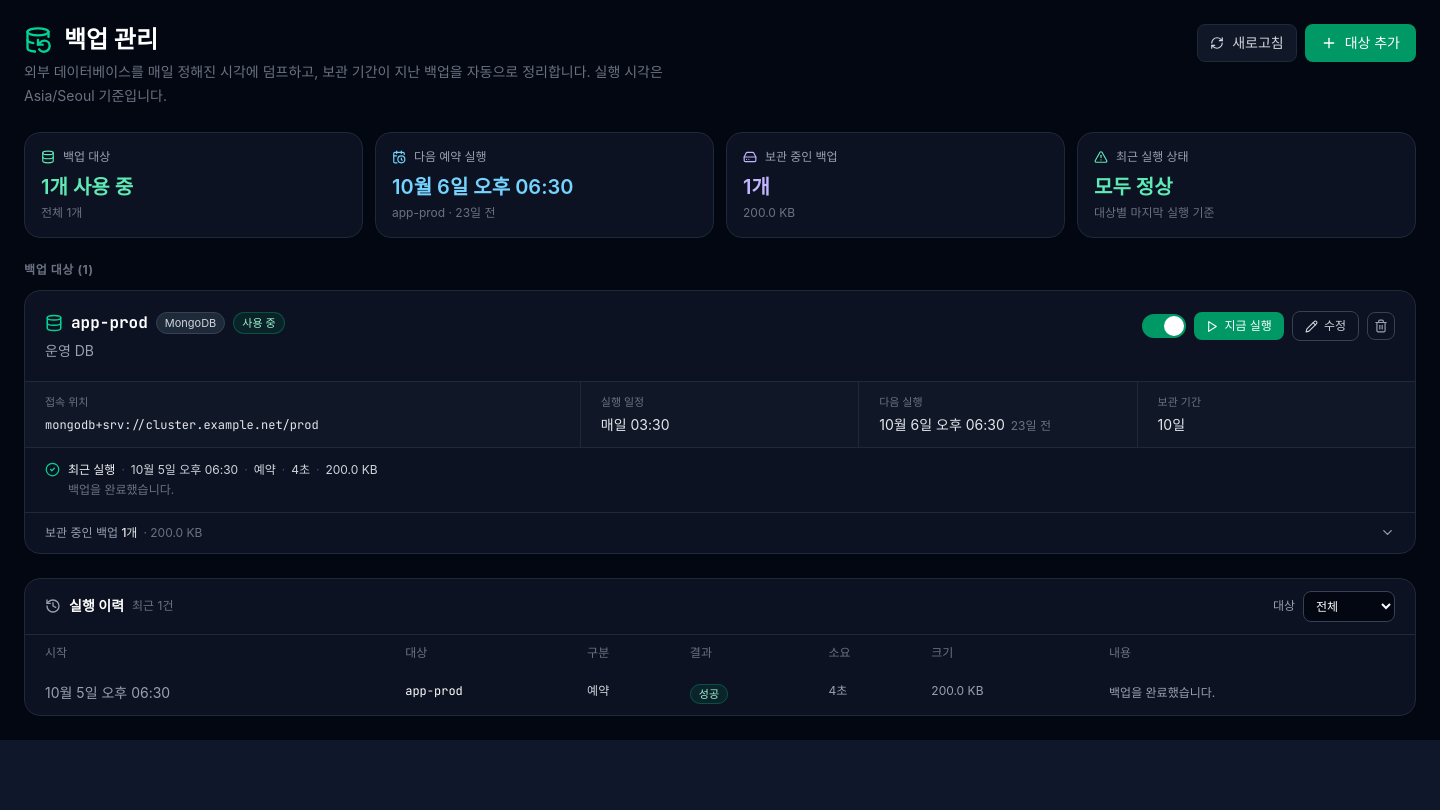
Test: BackupView › 스위치로 예약 백업을 끄고 켠다
The image size is (1440, 810).
Click the switch named "app-prod 예약 백업 사용".
click(1164, 326)  # box [1142,314,1186,338]
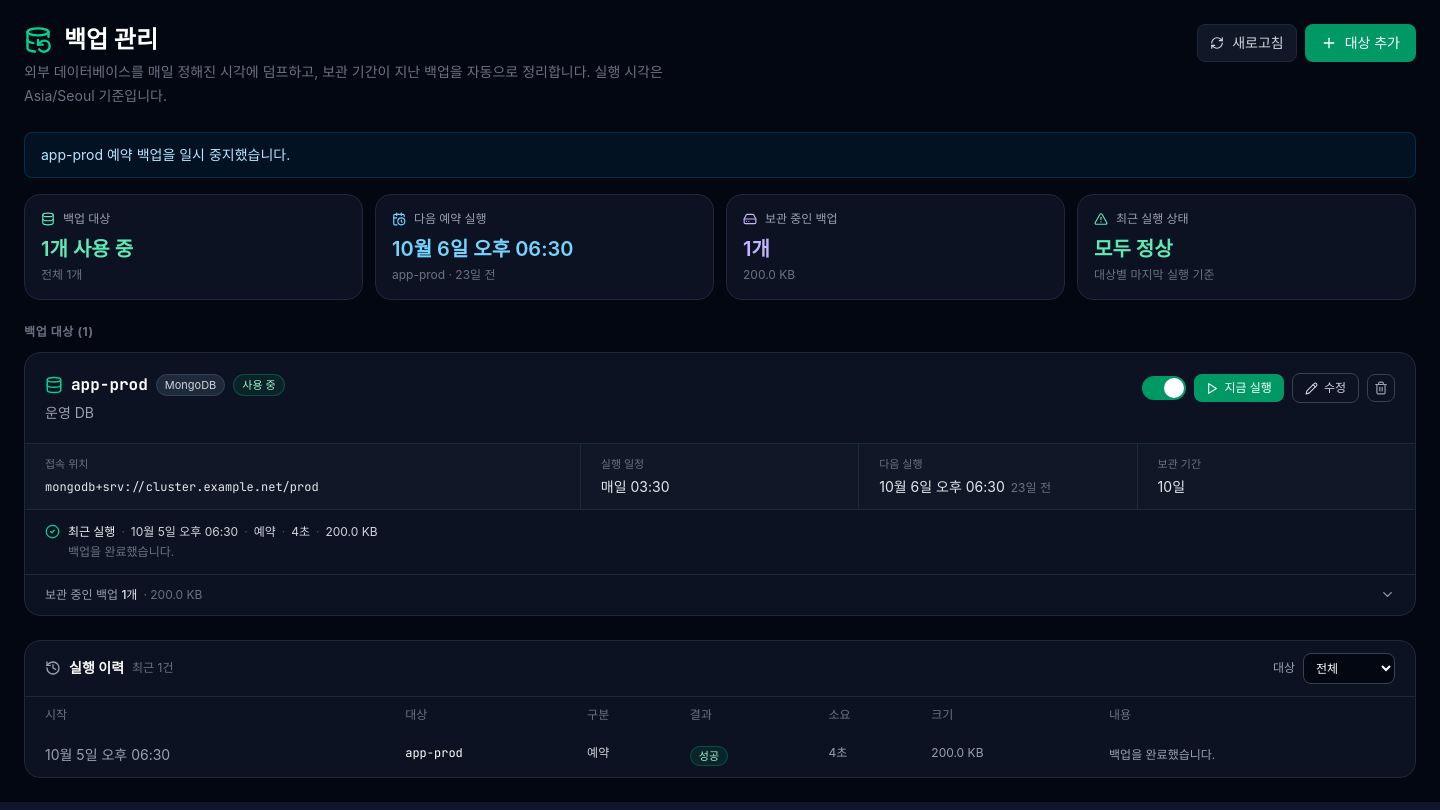
expect the message reads "app-prod 예약 백업을 일시 중지했습니다.": met, box [41,146,290,163]
